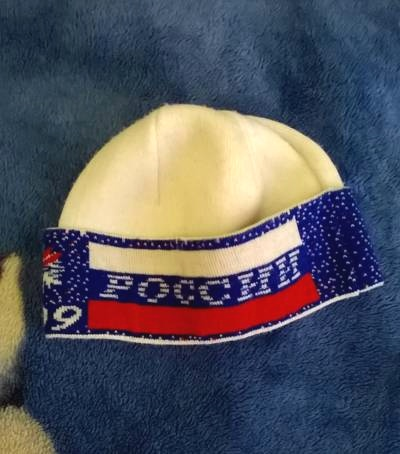Hat: (47, 93, 392, 351)
